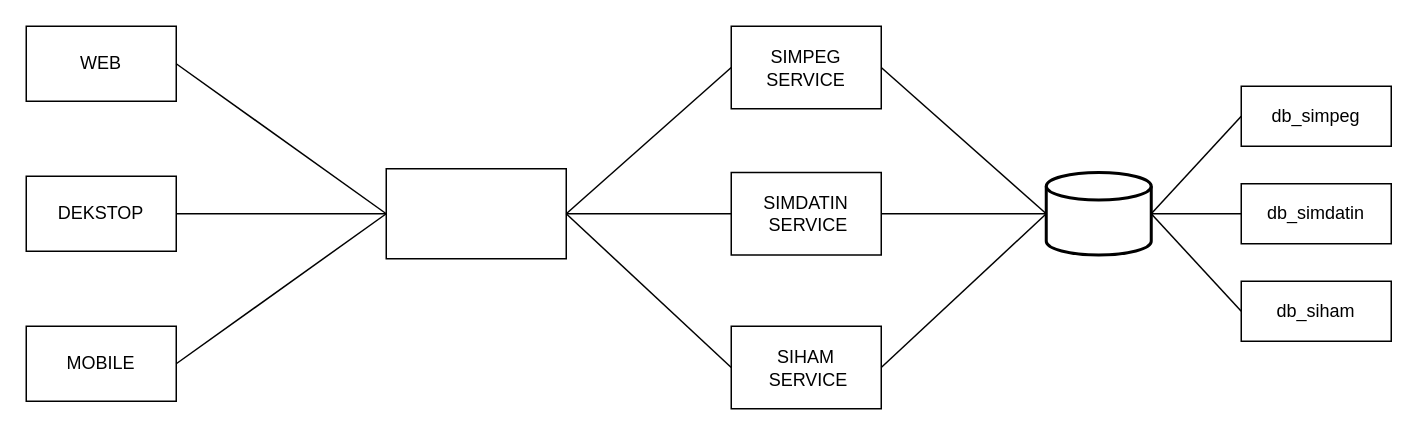
Image size: 1418x435. Some labels were removed from this diagram. Here are the shapes that lost their labels. From the top down, the centre of each, then its label:
(x=475, y=213): API Gateway
(x=1098, y=213): database
